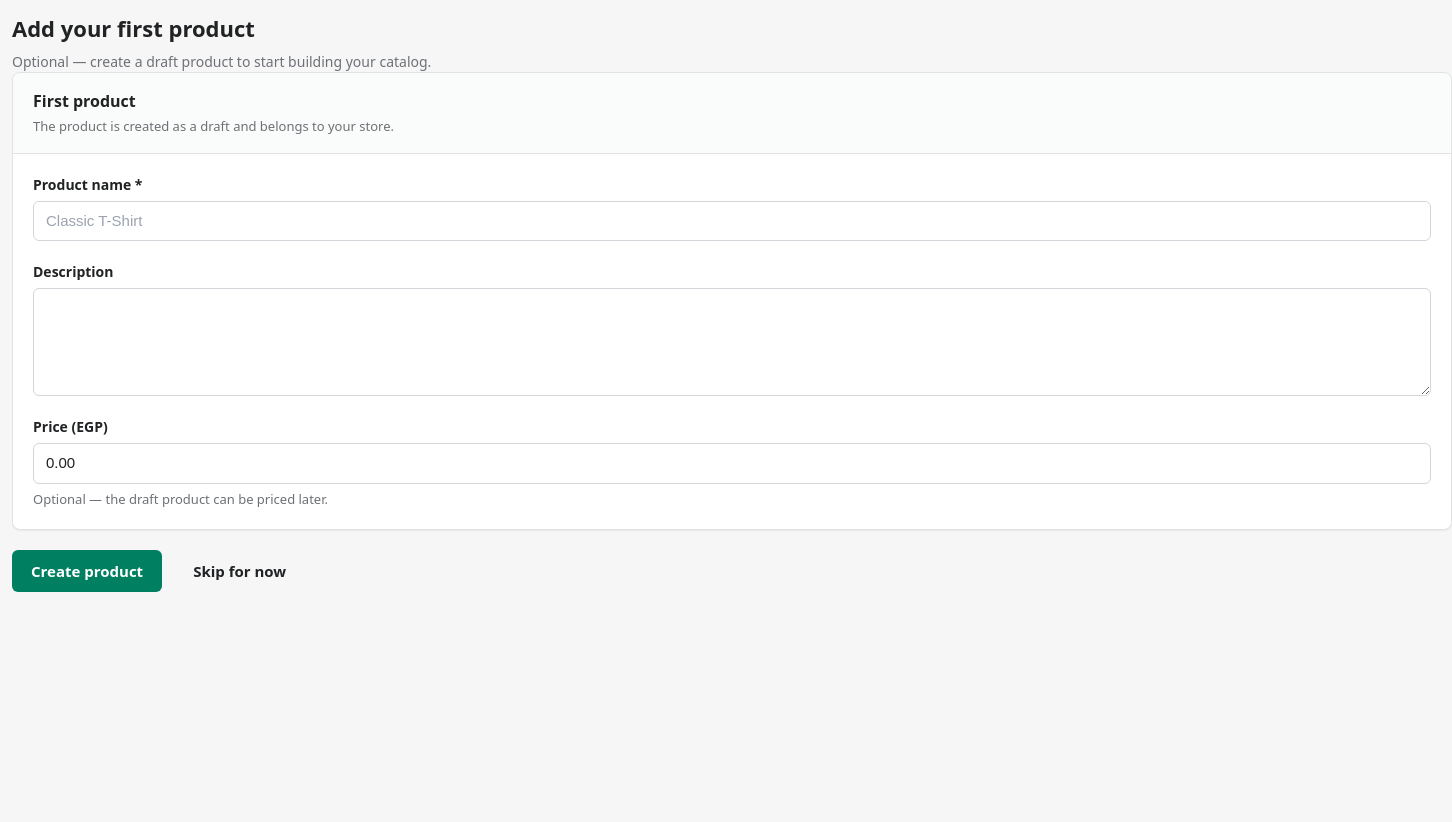
FirstProductStep › surfaces a catalog API error and keeps the merchant on the step
The image size is (1452, 822).
Type "Broken" into the field labelled "Product name *".
click(732, 221); type("Broken")  # box [33,200,1431,241]
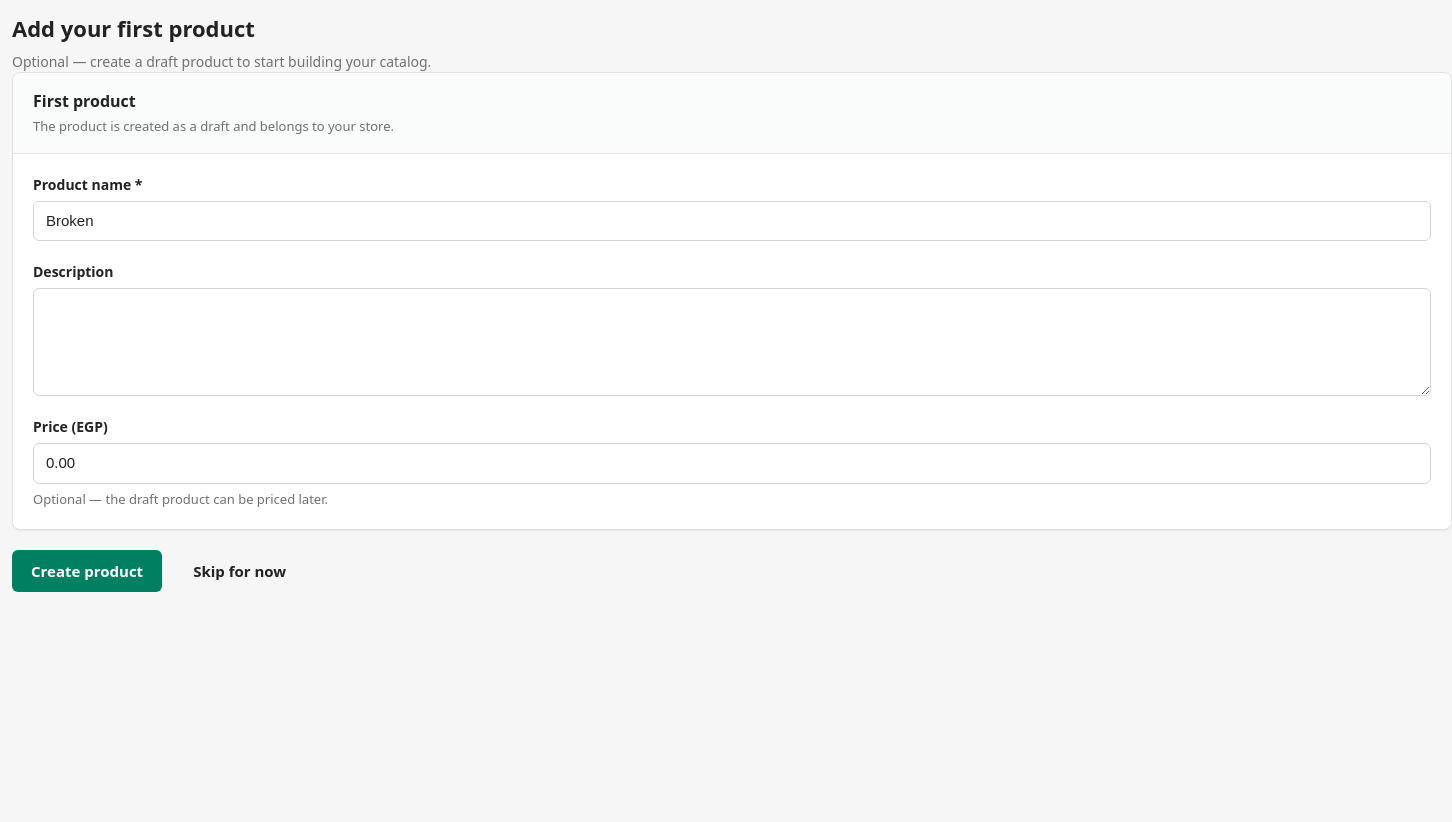
Click the button "Create product".
click(87, 571)  # box [12,550,162,592]
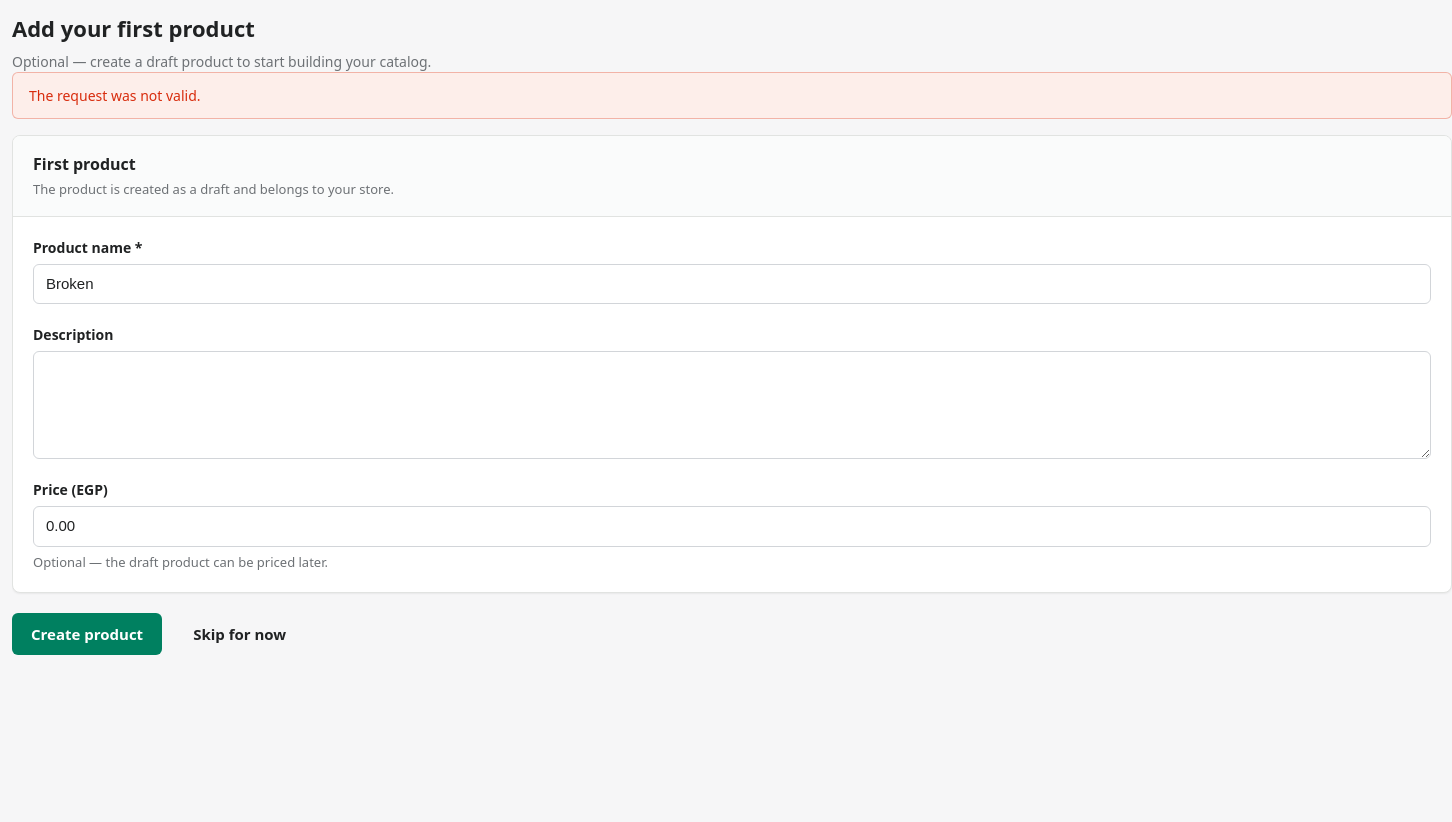
Now the message reads "The request was not valid.", box [29,86,200,105]
